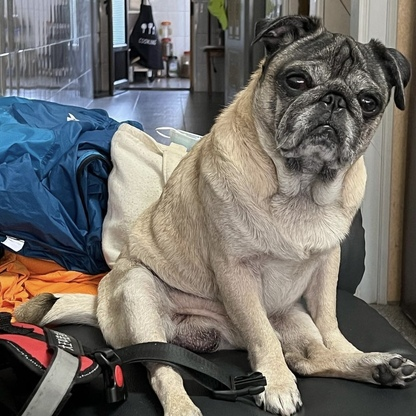Pug: (8, 12, 416, 416)
